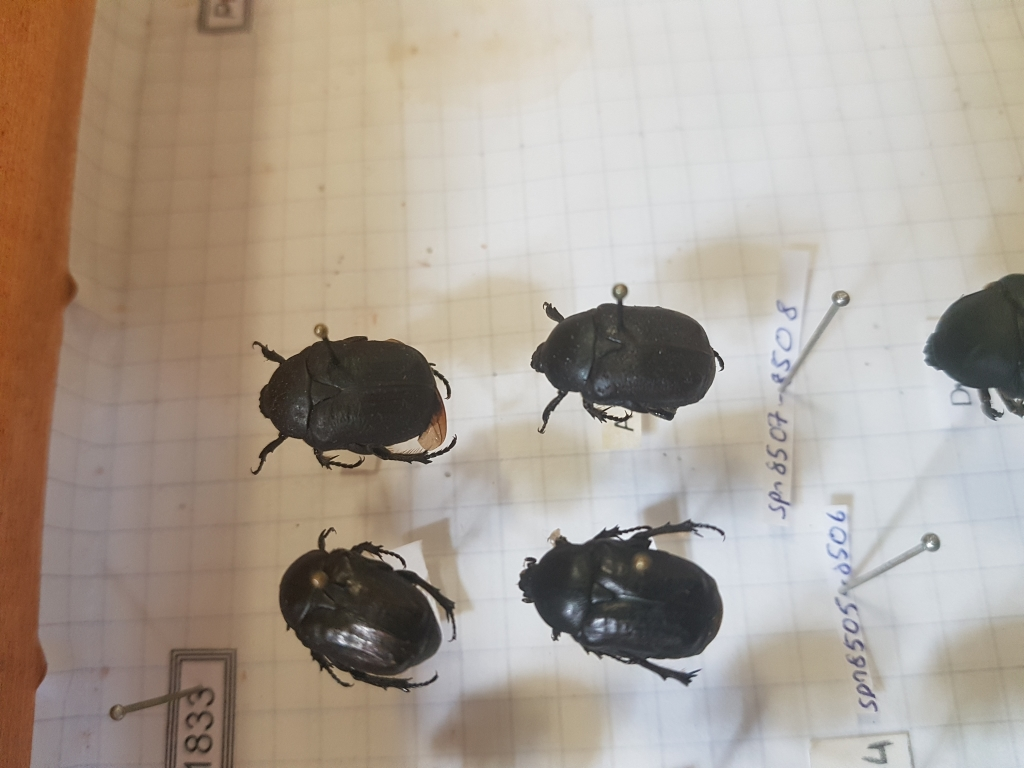Protaetia_vidua: (524, 518, 738, 692), (238, 326, 465, 482), (268, 515, 465, 693), (515, 299, 734, 441)
